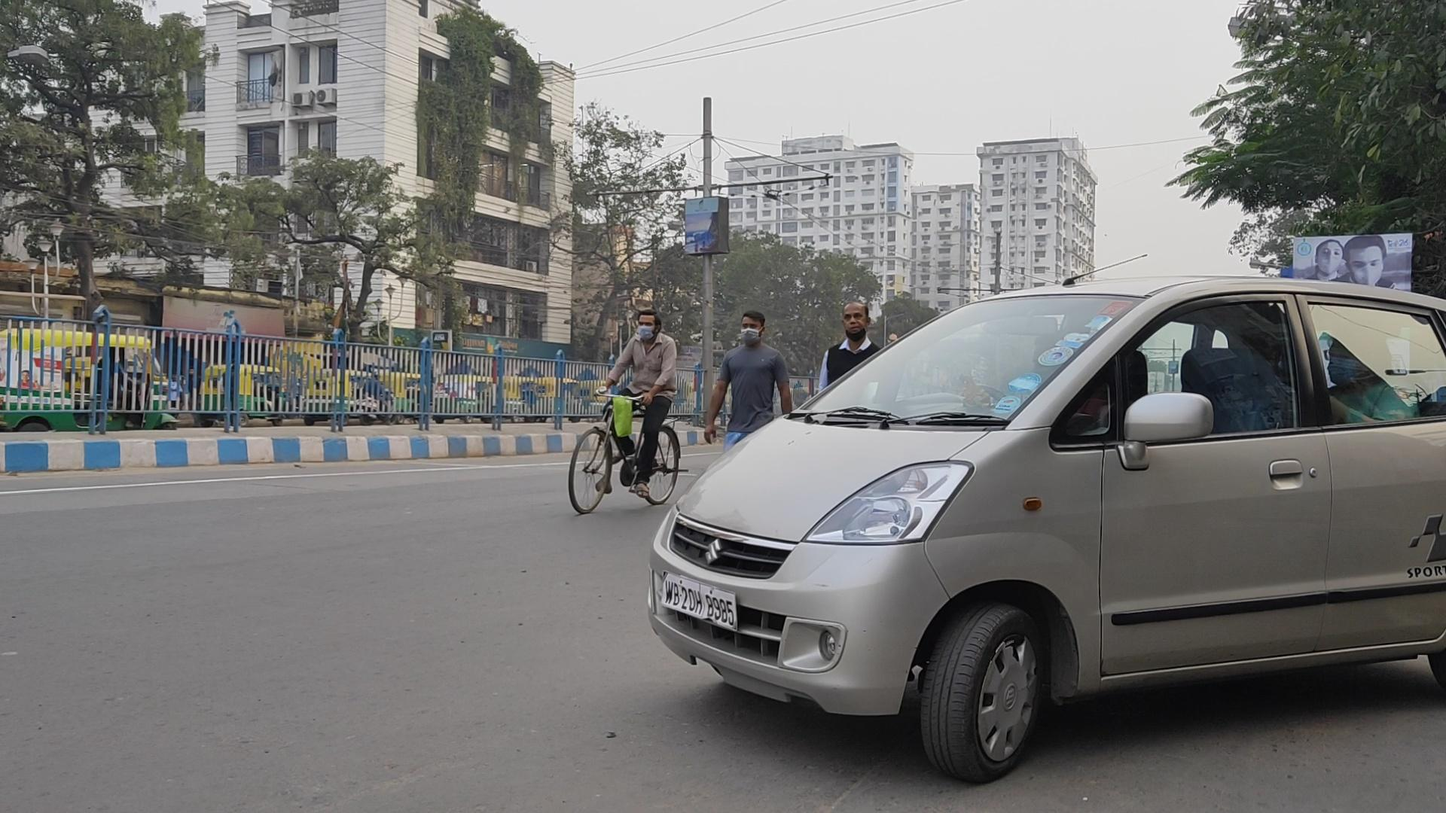bike: (568, 311, 684, 515)
car: (646, 275, 1446, 784)
